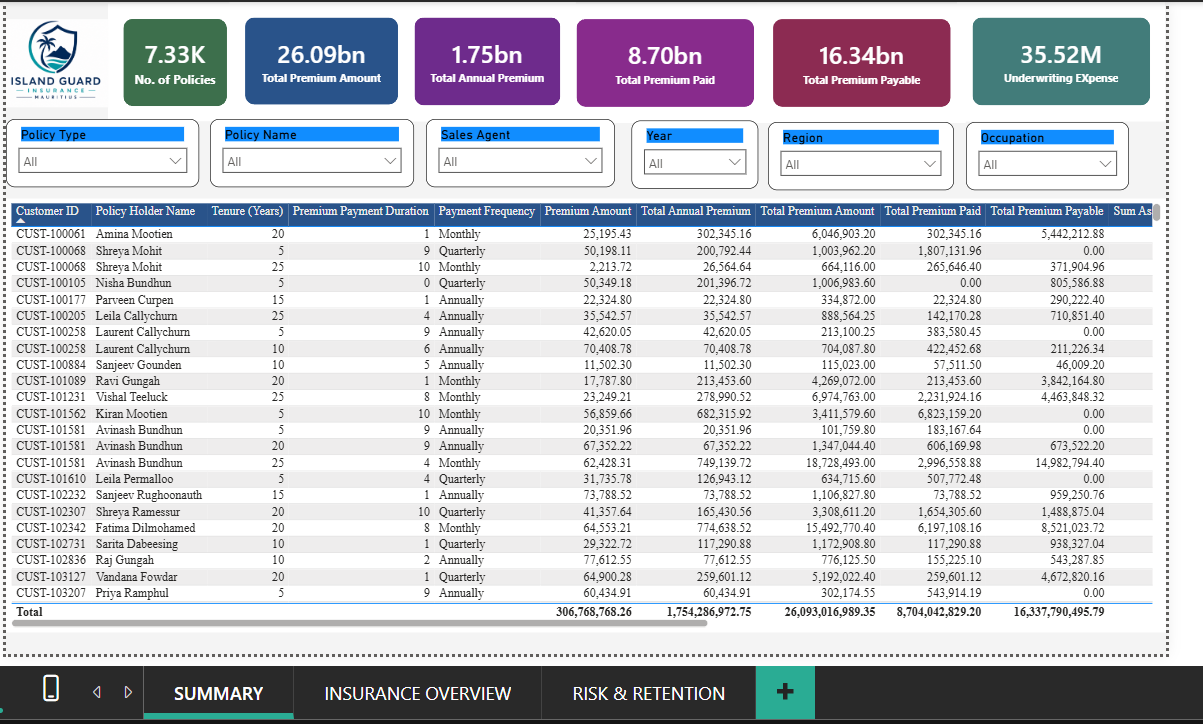

The page's visual inventory and layout, read from the dashboard file:
{"tool":"powerbi","page":{"name":"SUMMARY","canvas":[1280,720],"ordinal":0},"visuals":[{"type":"cardVisual","fields":{"Data":["CountNonNull(FCT Insurance_Policy_Table.Customer ID)"]},"box":[113.3,1.7,148.3,130],"z":0},{"type":"cardVisual","fields":{"Data":["Sum(FCT Insurance_Policy_Table.Total Premium Amount)"]},"box":[246.7,0,203.3,130],"z":1000},{"type":"cardVisual","fields":{"Data":["Sum(FCT Insurance_Policy_Table.Total Annual Premium)"]},"box":[433.3,0,195,131.7],"z":2000},{"type":"cardVisual","fields":{"Data":["Sum(FCT Insurance_Policy_Table.Total Premium Paid)"]},"box":[613.3,1.7,230,131.7],"z":3000},{"type":"cardVisual","fields":{"Data":["Sum(FCT Insurance_Policy_Table.Total Premium Payable)"]},"box":[830,1.7,230,131.7],"z":4000},{"type":"cardVisual","fields":{"Data":["FCT Insurance_Policy_Table.Underwriting EXpense"]},"box":[1050,0,230,131.7],"z":5000},{"type":"image","box":[0,1.7,113.6,132.2],"z":6000},{"type":"tableEx","fields":{"Values":["FCT Insurance_Policy_Table.Customer ID","DM Customer_Detail_Table.Policy Holder Name","FCT Insurance_Policy_Table.Tenure (Years)","FCT Insurance_Policy_Table.Premium Payment Duration","FCT Insurance_Policy_Table.Payment Frequency","Sum(FCT Insurance_Policy_Table.Premium Amount)","Sum(FCT Insurance_Policy_Table.Total Annual Premium)","Sum(FCT Insurance_Policy_Table.Total Premium Amount)","Sum(FCT Insurance_Policy_Table.Total Premium Paid)","Sum(FCT Insurance_Policy_Table.Total Premium Payable)","Sum(FCT Insurance_Policy_Table.Sum Assured MUR/Coverage Amount)","Sum(FCT Insurance_Policy_Table.Maturity Amount)"]},"box":[0,216.7,1280,478.3],"z":7000},{"type":"slicer","fields":{"Values":["DM Policy_Type.Policy Type"]},"box":[0,130,213.3,75],"z":8000},{"type":"slicer","fields":{"Values":["DM Policy_Protection_Plan.Policy Name"]},"box":[225,130,225,75],"z":9000},{"type":"slicer","fields":{"Values":["FCT Insurance_Policy_Table.Start Date.Variation.Date Hierarchy.Year"]},"box":[690,131.7,140,75],"z":10000},{"type":"slicer","fields":{"Values":["DM Insurance_Agent_Table.Sales Agent"]},"box":[463.3,130,208.3,75],"z":11000},{"type":"slicer","fields":{"Values":["DM Customer_Detail_Table.State"]},"box":[841.7,133.3,205,75],"z":12000},{"type":"slicer","fields":{"Values":["DM Customer_Detail_Table.Occupation"]},"box":[1060,133.3,180,75],"z":13000}]}

Visuals, with their boxes on the page's 1280x720 design canvas (x1, y1, x2, y2). These are canvas units, not pixel positions in the 1203x724 screenshot, which may show the page scaled, cropped or inside an application window:
cardVisual - CountNonNull(FCT Insurance_Policy_Table.Customer ID): <region>113, 2, 262, 132</region>
cardVisual - Sum(FCT Insurance_Policy_Table.Total Premium Amount): <region>247, 0, 450, 130</region>
cardVisual - Sum(FCT Insurance_Policy_Table.Total Annual Premium): <region>433, 0, 628, 132</region>
cardVisual - Sum(FCT Insurance_Policy_Table.Total Premium Paid): <region>613, 2, 843, 133</region>
cardVisual - Sum(FCT Insurance_Policy_Table.Total Premium Payable): <region>830, 2, 1060, 133</region>
cardVisual - FCT Insurance_Policy_Table.Underwriting EXpense: <region>1050, 0, 1280, 132</region>
image: <region>0, 2, 114, 134</region>
tableEx - FCT Insurance_Policy_Table.Customer ID x DM Customer_Detail_Table.Policy Holder Name: <region>0, 217, 1280, 695</region>
slicer - DM Policy_Type.Policy Type: <region>0, 130, 213, 205</region>
slicer - DM Policy_Protection_Plan.Policy Name: <region>225, 130, 450, 205</region>
slicer - FCT Insurance_Policy_Table.Start Date.Variation.Date Hierarchy.Year: <region>690, 132, 830, 207</region>
slicer - DM Insurance_Agent_Table.Sales Agent: <region>463, 130, 672, 205</region>
slicer - DM Customer_Detail_Table.State: <region>842, 133, 1047, 208</region>
slicer - DM Customer_Detail_Table.Occupation: <region>1060, 133, 1240, 208</region>
